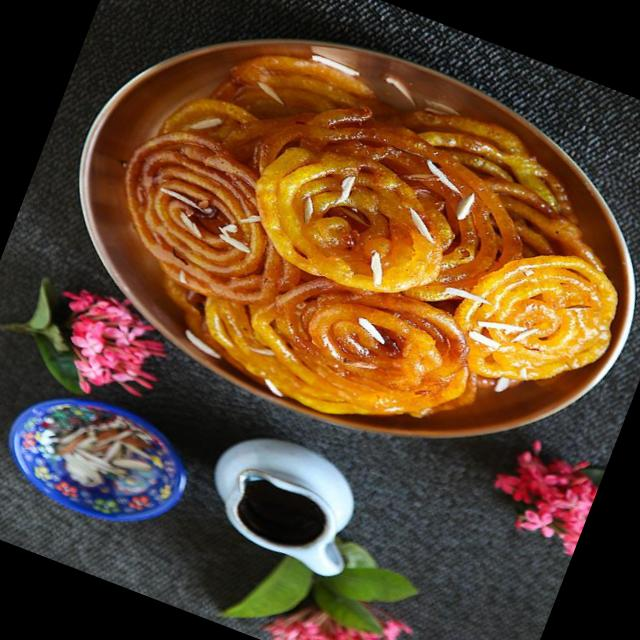jalebi: (59, 0, 640, 489)
